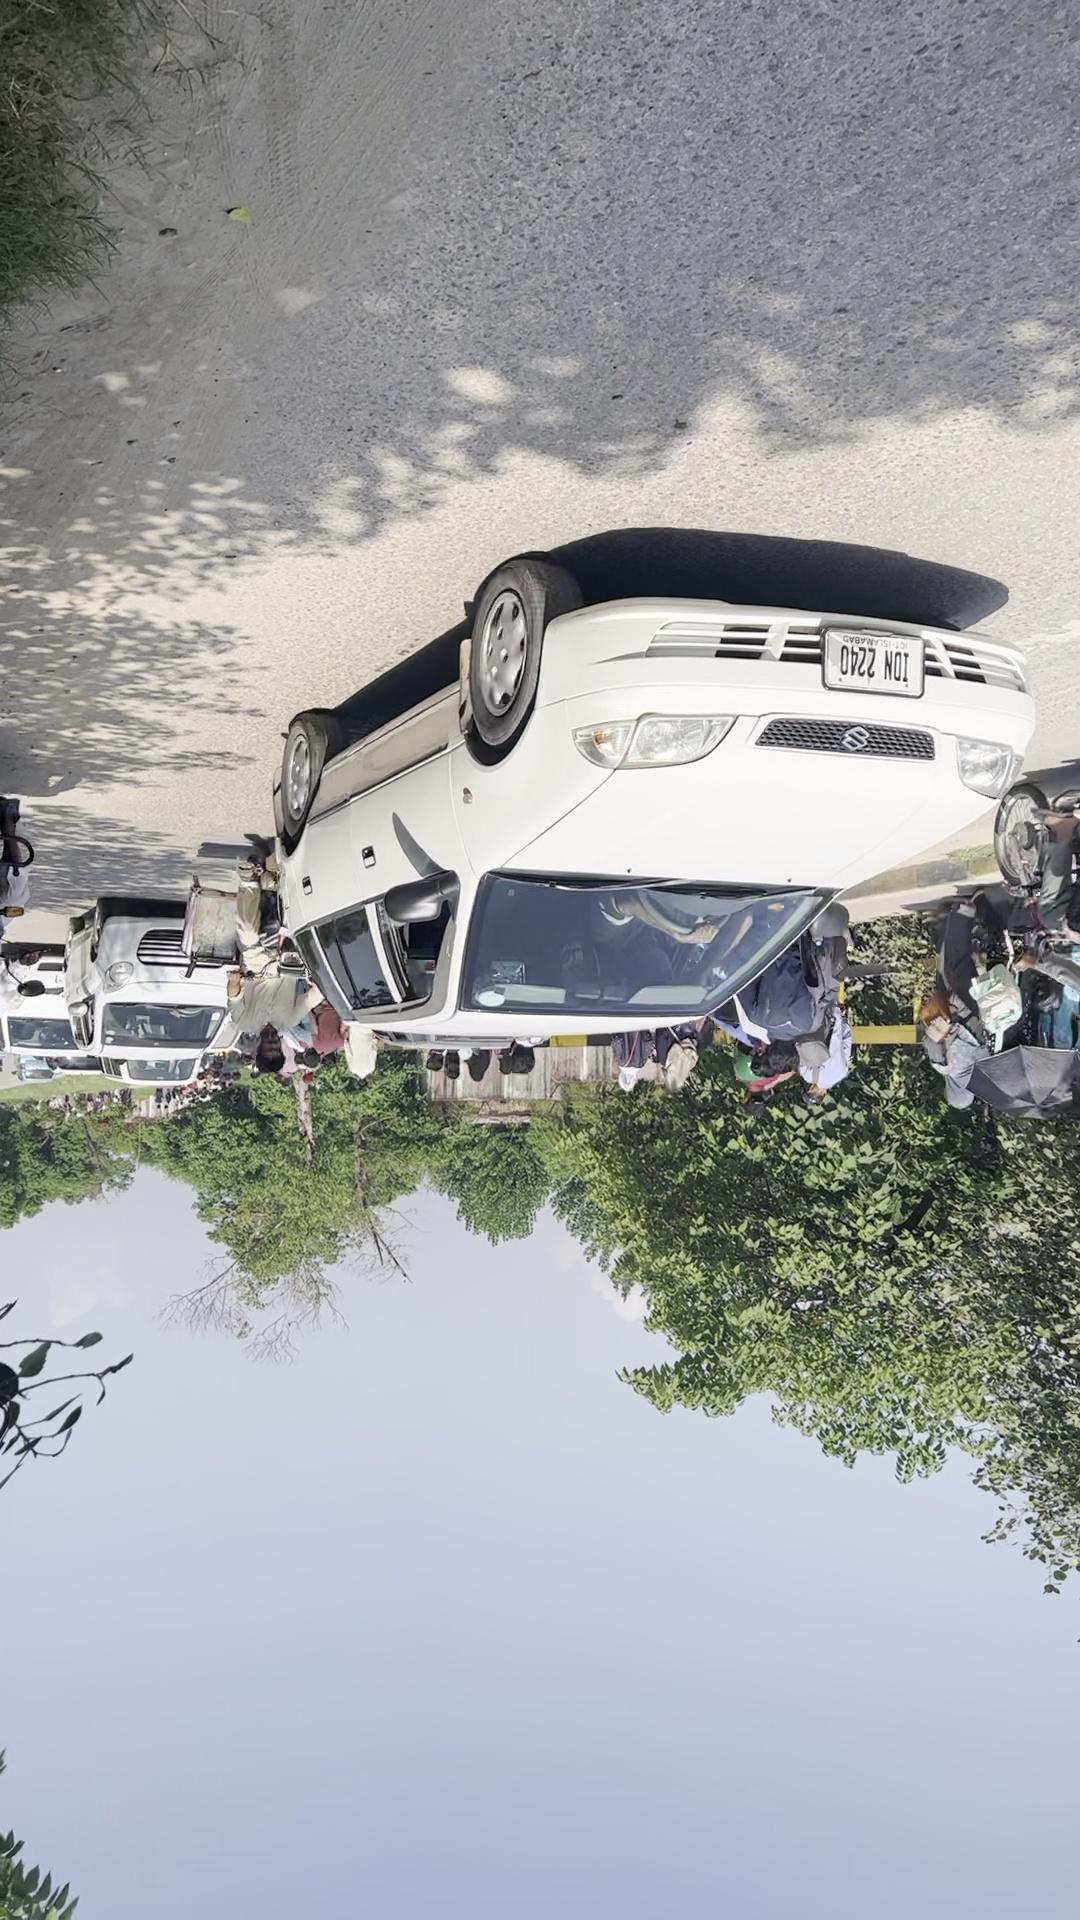windshield: (248, 895, 630, 1058)
